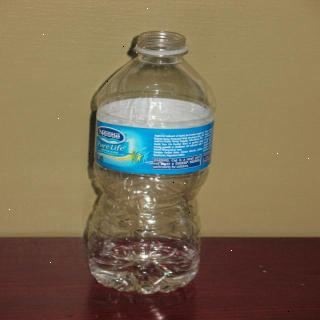Plastic-bottle: (86, 28, 217, 294)
